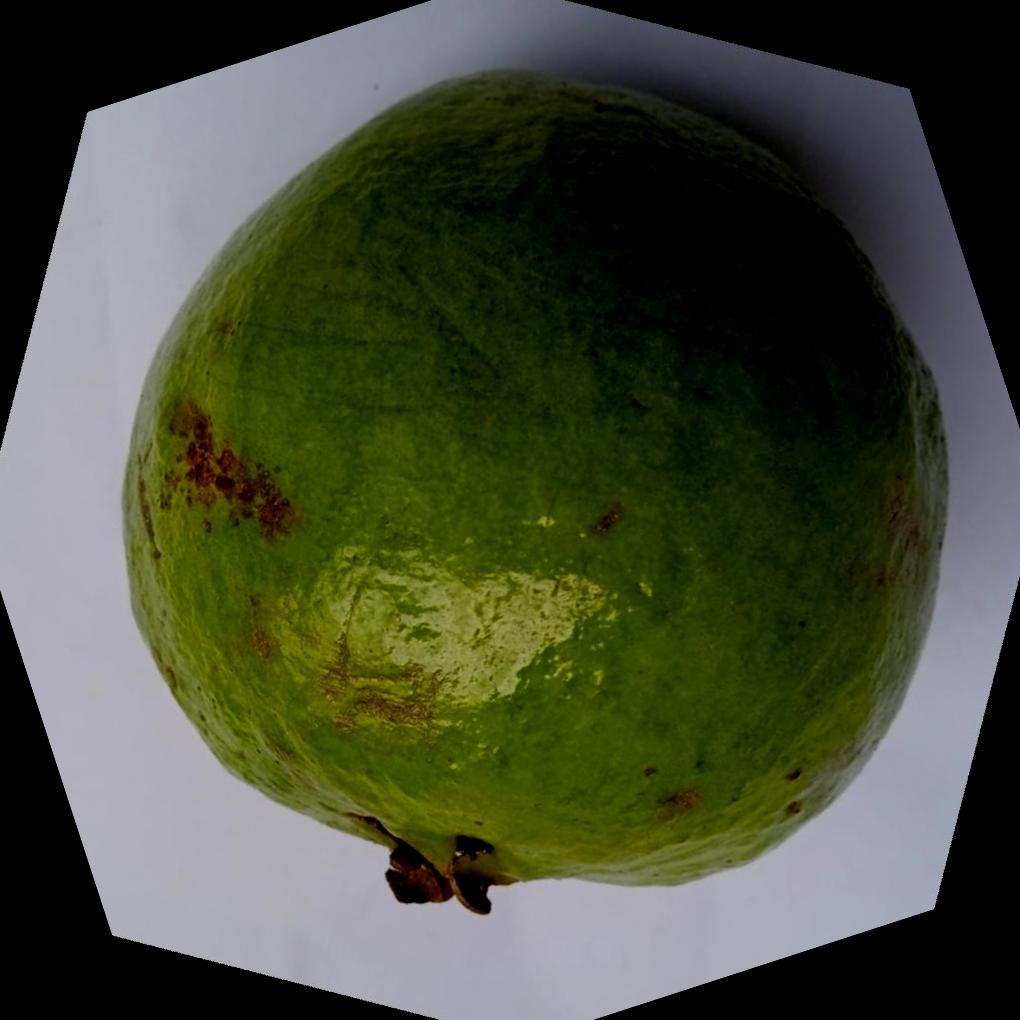FreshGuava: (119, 67, 951, 919)
